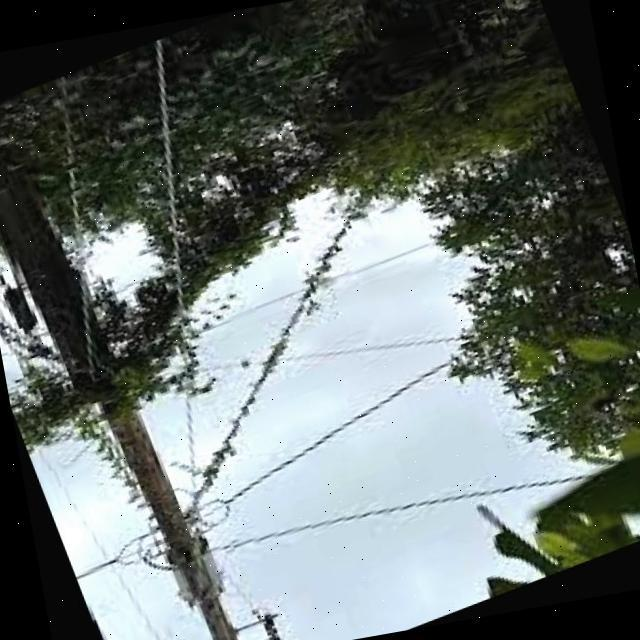critical vegetation: (0, 229, 321, 640)
